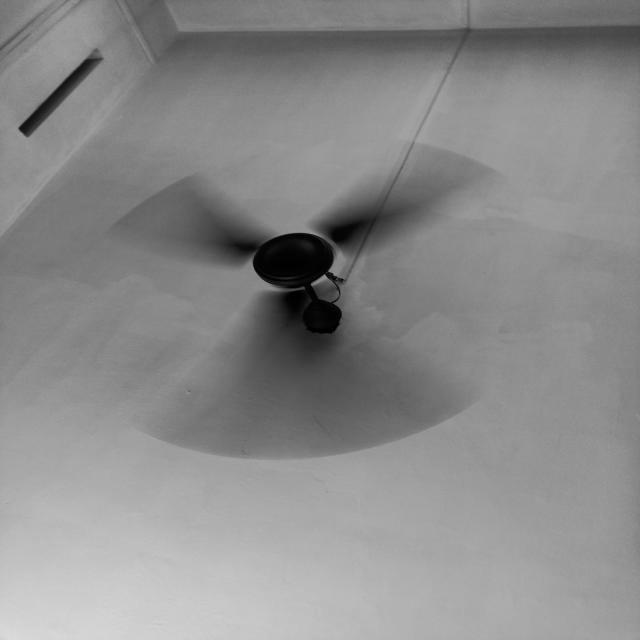fan: (101, 141, 505, 463)
light: (251, 231, 345, 336)
